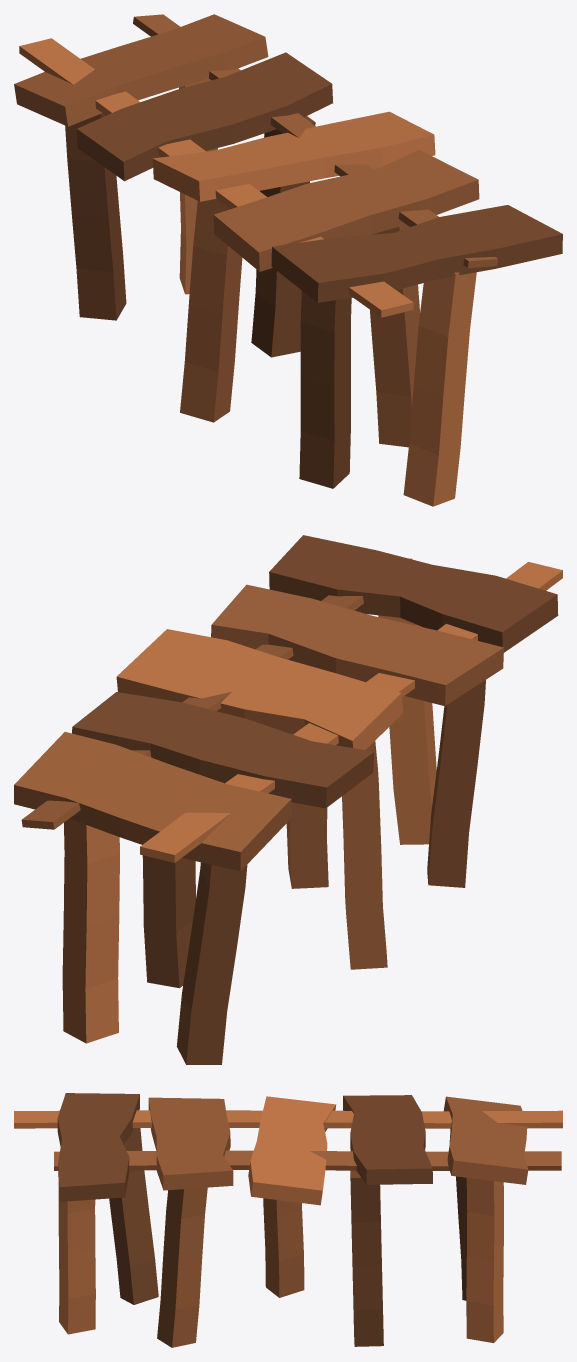
The model's file is pier.fbx.
3 renders of one model, top to bottom at view 1: azimuth 30°, elevation 25°; view 2: azimuth 150°, elevation 25°; view 3: azimuth 270°, elevation 25°, orthographic. The views are drawn at different scales.
Visible parts, largest first — view 1: Cube_4, Cube_1, Cube_3, Cube_2, Cube, Cube_10, Cube_12, Cube_13, Cube_11, Cube_9, Cube_5, Cube_8 (+2 smaller); view 2: Cube, Cube_2, Cube_3, Cube_1, Cube_4, Cube_6, Cube_11, Cube_13, Cube_12, Cube_8, Cube_10, Cube_5 (+2 smaller); view 3: Cube_4, Cube_2, Cube_3, Cube_1, Cube_9, Cube_6, Cube, Cube_8, Cube_13, Cube_10, Cube_5, Cube_12 (+2 smaller).
Boxes of the visible parts, box(x1,y1,x2,y2) form: Cube_4: box(271, 205, 562, 302); Cube_1: box(77, 52, 332, 181); Cube_3: box(213, 150, 479, 271); Cube_2: box(152, 111, 435, 201); Cube: box(14, 14, 268, 126); Cube_10: box(403, 272, 476, 506); Cube_12: box(180, 198, 242, 422); Cube_13: box(299, 290, 351, 488); Cube_11: box(65, 113, 126, 320); Cube_9: box(370, 224, 419, 447); Cube_5: box(19, 38, 413, 317); Cube_8: box(251, 116, 315, 357); Cube: box(14, 732, 291, 871); Cube_2: box(116, 629, 403, 749); Cube_3: box(211, 584, 503, 705); Cube_1: box(72, 692, 374, 808); Cube_4: box(269, 535, 558, 652); Cube_6: box(62, 818, 119, 1043); Cube_11: box(176, 862, 247, 1064); Cube_13: box(427, 680, 485, 887); Cube_12: box(342, 741, 387, 969); Cube_8: box(142, 855, 195, 988); Cube_10: box(378, 615, 436, 844); Cube_5: box(140, 562, 562, 862); Cube_4: box(57, 1093, 139, 1201); Cube_2: box(248, 1096, 336, 1205); Cube_3: box(148, 1097, 233, 1190); Cube_1: box(343, 1095, 432, 1184); Cube_9: box(157, 1187, 207, 1347); Cube_6: box(466, 1177, 503, 1342); Cube: box(443, 1096, 528, 1184); Cube_8: box(350, 1170, 383, 1346); Cube_13: box(109, 1128, 158, 1304); Cube_10: box(58, 1187, 95, 1334); Cube_5: box(14, 1110, 562, 1128); Cube_12: box(263, 1198, 304, 1297).
Size of the model in its own units: 94.47 by 92.52 by 233.
